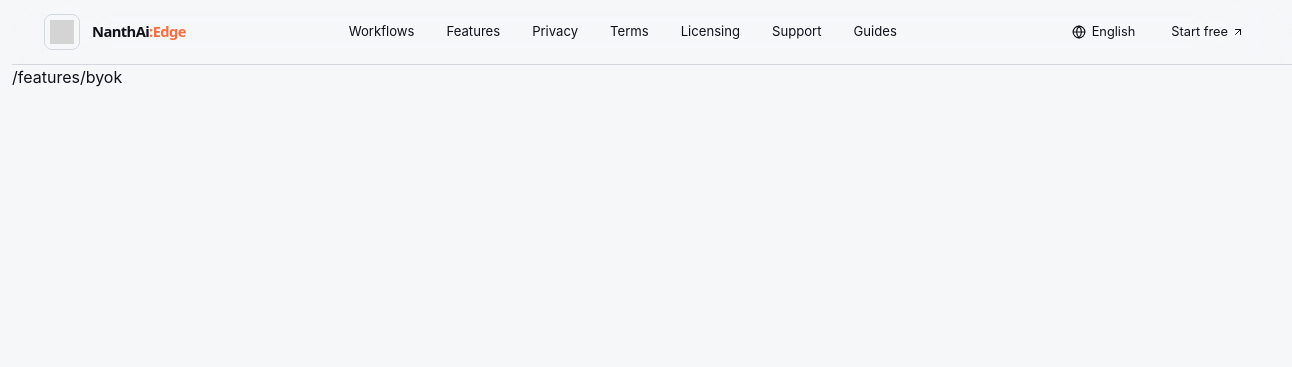
Test case: EdgeSiteHeader › navigates feature URLs when changing language
What coordinates should you click on to do the following:
click the button with aria-label "Change language, current language: English"
I would click on:
 (1103, 32)
Its box is [1060, 14, 1147, 50].
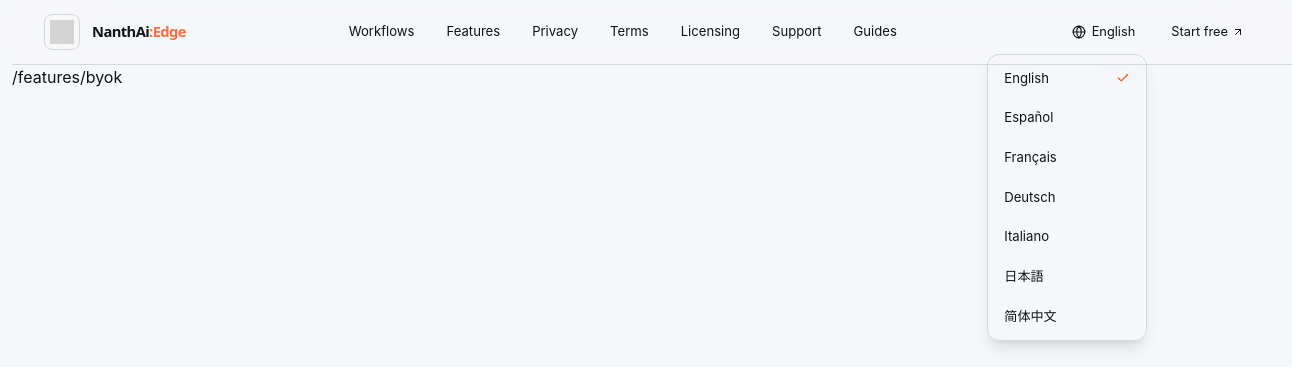
What coordinates should you click on to do the following:
click the menu item "Italiano"
I would click on:
 (1067, 237)
Its box is [988, 217, 1146, 257].
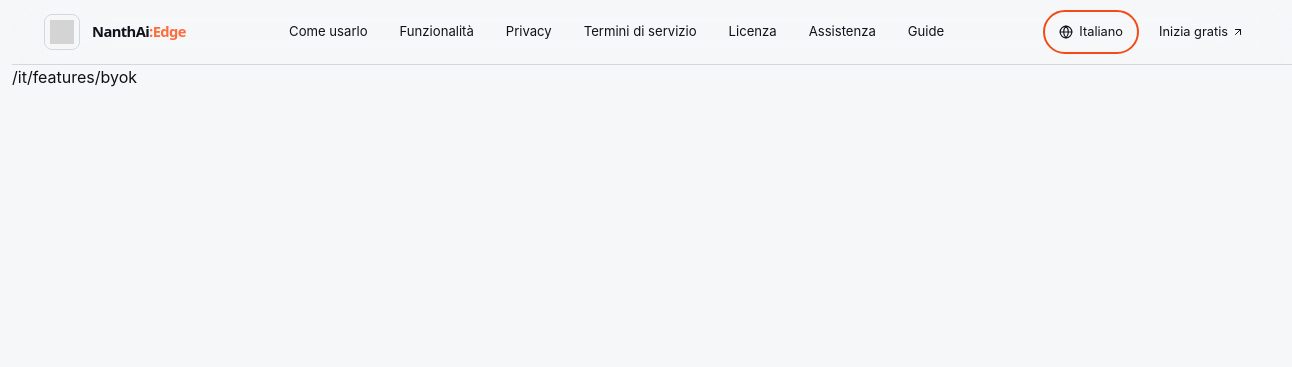
Expected: the text "/it/features/byok" is shown, [12, 67, 137, 87]
